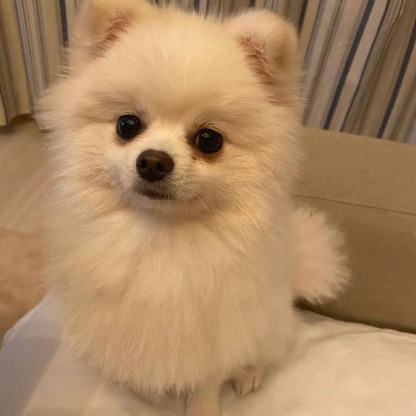Pomeranian: (58, 10, 314, 405)
